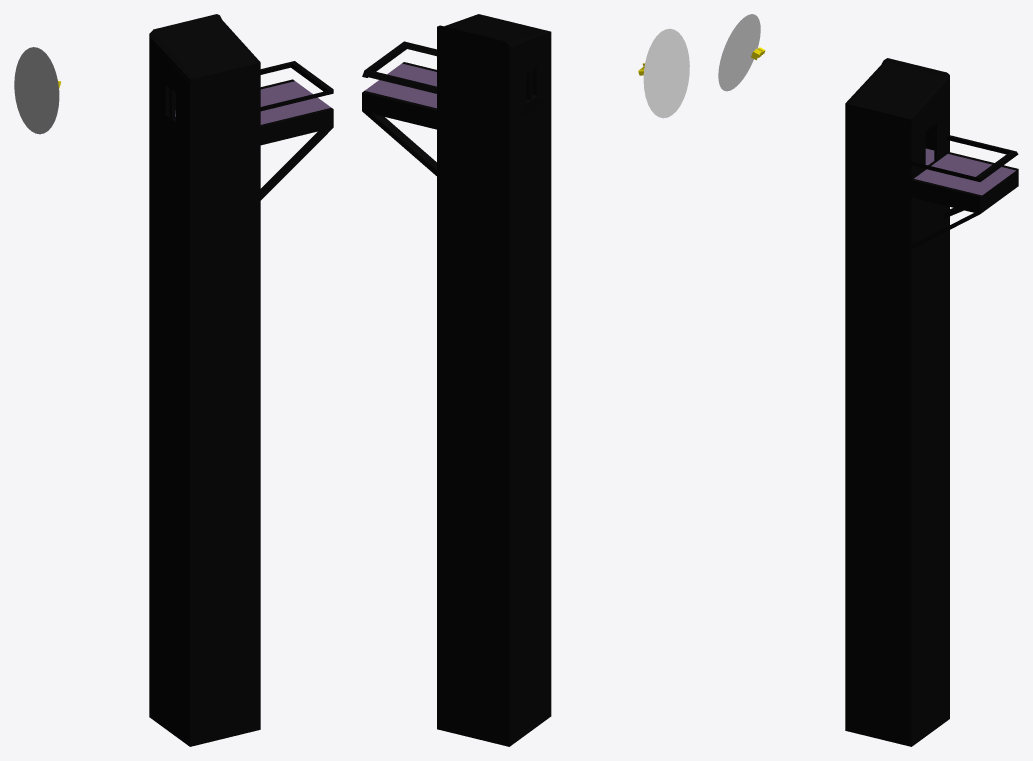
File: home_scene.fbx
3 views of the same model, side by side, from view 1: azimuth 30°, elevation 25°; view 2: azimuth 150°, elevation 25°; view 3: azimuth 330°, elevation 25° (orthographic). The views are drawn at different scales.
Parts seen in each view (by area): view 1: Cube, Circle; view 2: Cube, Circle; view 3: Cube, Circle.
Boxes of the visible parts, x1=… form: Cube: x1=149, y1=14, x2=333, y2=746; Circle: x1=14, y1=47, x2=59, y2=134; Cube: x1=362, y1=14, x2=551, y2=746; Circle: x1=643, y1=28, x2=689, y2=118; Cube: x1=845, y1=58, x2=1018, y2=746; Circle: x1=718, y1=14, x2=760, y2=91.
Bounding box in the file's own units: 2960 × 7154 × 796.
